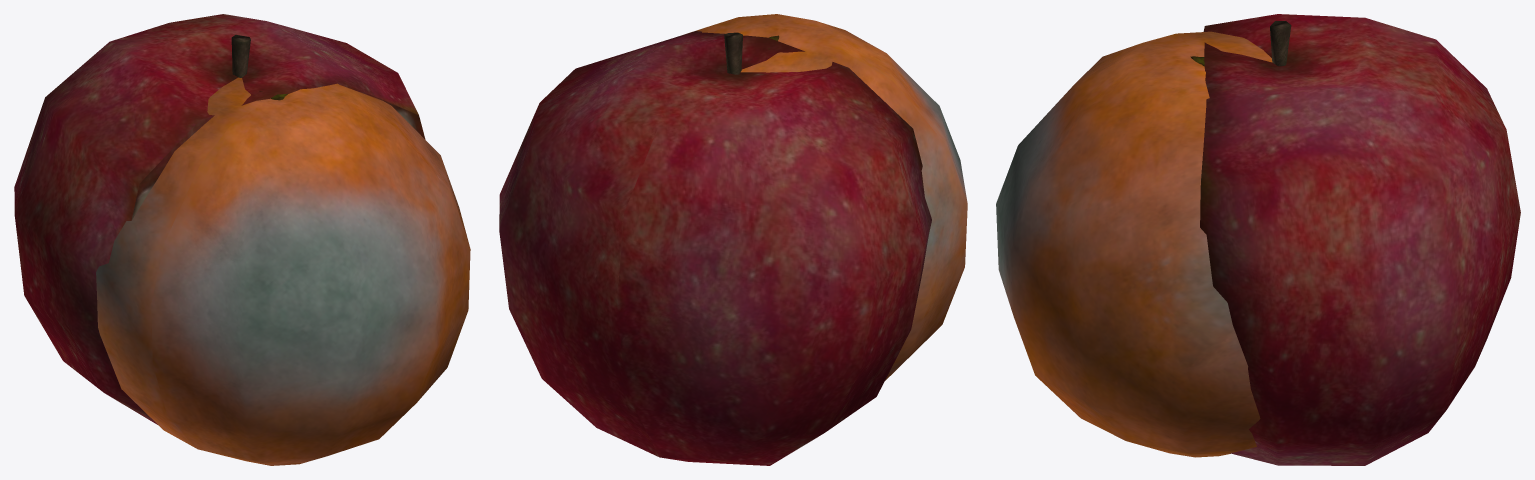
Rendered from SM_Fruit.fbx.
3 views of the same model, side by side, from view 1: azimuth 30°, elevation 25°; view 2: azimuth 150°, elevation 25°; view 3: azimuth 270°, elevation 25° (orthographic). The views are drawn at different scales.
Parts seen in each view (by area): view 1: SM_Orange, SM_Apple; view 2: SM_Apple, SM_Orange; view 3: SM_Apple, SM_Orange.
Boxes of the visible parts, box(x1,y1,x2,y2) form: SM_Orange: box(96, 77, 470, 465); SM_Apple: box(14, 14, 425, 424); SM_Apple: box(499, 31, 931, 465); SM_Orange: box(689, 14, 967, 380); SM_Apple: box(1200, 14, 1520, 465); SM_Orange: box(996, 31, 1272, 457).
Bounding box in the file's own units: 12.48 × 12.42 × 14.26.
1 material, 1 textured.
